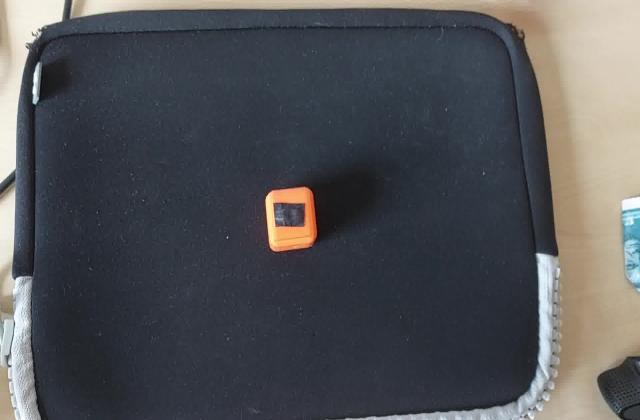black: (270, 200, 308, 230)
sticker: (262, 184, 320, 255)
